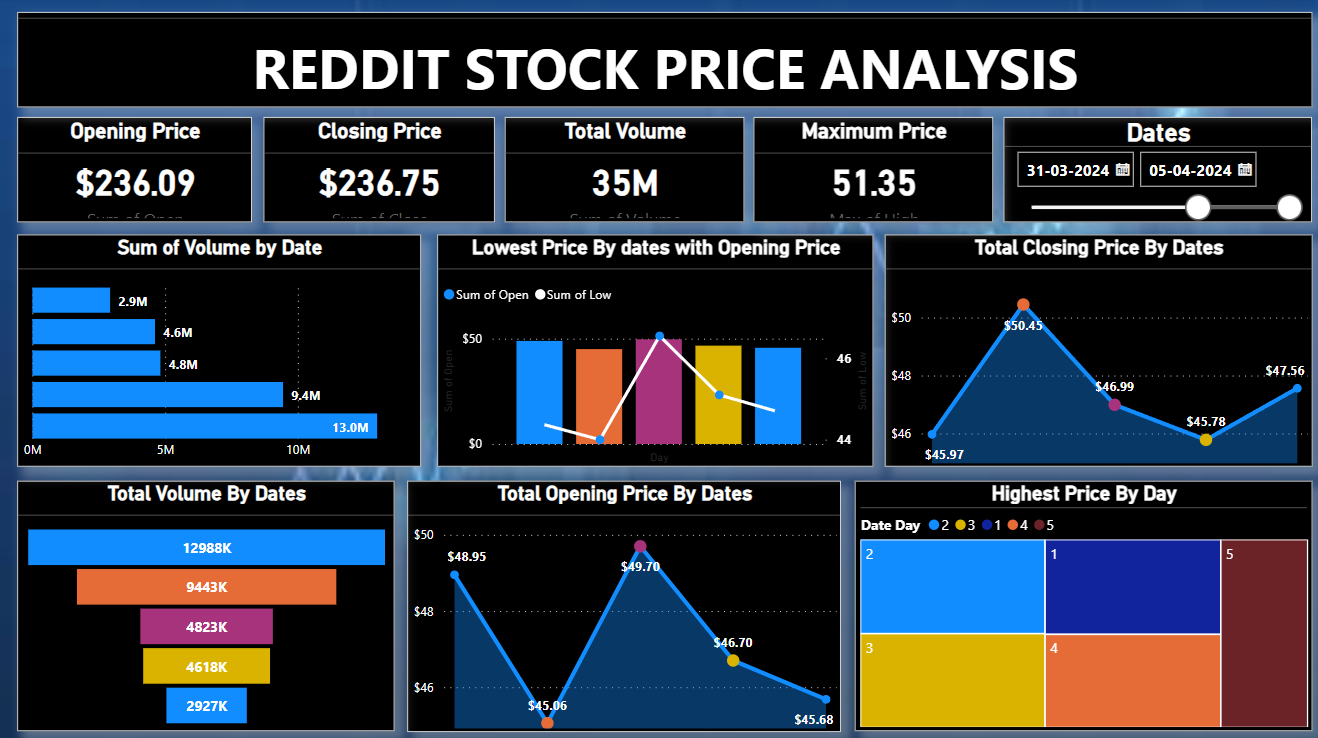

What the dashboard file says about the page in this screenshot:
{"tool":"powerbi","page":{"name":"Page 2","canvas":[1280,720],"ordinal":1},"visuals":[{"type":"card","title":"Total Opening Price","fields":{"Values":["Sum(RDDT.Open)"]},"box":[20.5,115.8,226.7,101.3],"z":0},{"type":"card","title":"Total Opening Price","fields":{"Values":["Sum(RDDT.Open)"]},"box":[258.1,115.8,223.1,101.3],"z":1000},{"type":"card","title":"Total Opening Price","fields":{"Values":["Sum(RDDT.Open)"]},"box":[490.9,115.8,231.6,101.3],"z":2000},{"type":"slicer","title":"Dates","fields":{"Values":["RDDT.Date"]},"box":[972.1,115.8,297.9,101.3],"z":3000},{"type":"lineChart","title":"Total Opening Price By Dates","fields":{"Y":["Sum(RDDT.Open)"],"Category":["RDDT.Date.Variation.Date Hierarchy.Year","RDDT.Date.Variation.Date Hierarchy.Quarter","RDDT.Date.Variation.Date Hierarchy.Month","RDDT.Date.Variation.Date Hierarchy.Day"]},"box":[396.8,466.7,418.5,242.4],"z":4000},{"type":"areaChart","title":"Total Closing Price By Dates","fields":{"Category":["RDDT.Date.Variation.Date Hierarchy.Year","RDDT.Date.Variation.Date Hierarchy.Quarter","RDDT.Date.Variation.Date Hierarchy.Month","RDDT.Date.Variation.Date Hierarchy.Day"],"Y":["Sum(RDDT.Close)"]},"box":[857.5,229.1,412.5,224.3],"z":5000},{"type":"funnel","title":"Total Volume By Dates","fields":{"Category":["RDDT.Date.Variation.Date Hierarchy.Year","RDDT.Date.Variation.Date Hierarchy.Quarter","RDDT.Date.Variation.Date Hierarchy.Month","RDDT.Date.Variation.Date Hierarchy.Day"],"Y":["Sum(RDDT.Volume)"]},"box":[20.5,466.7,364.2,241.2],"z":6000},{"type":"barChart","fields":{"Category":["RDDT.Date"],"Y":["Sum(RDDT.Volume)"]},"box":[20.5,229.1,389.5,224.3],"z":7000},{"type":"lineStackedColumnComboChart","title":"Lowest Price By dates with Opening Price","fields":{"Category":["RDDT.Date.Variation.Date Hierarchy.Year","RDDT.Date.Variation.Date Hierarchy.Quarter","RDDT.Date.Variation.Date Hierarchy.Month","RDDT.Date.Variation.Date Hierarchy.Day"],"Y":["Sum(RDDT.Open)"],"Y2":["Sum(RDDT.Low)"]},"box":[425.7,229.1,420.9,224.3],"z":7001},{"type":"treemap","title":"Highest Price By Day","fields":{"Group":["RDDT.Date.Variation.Date Hierarchy.Day"],"Values":["Sum(RDDT.High)"]},"box":[828.5,466.7,441.4,241.2],"z":7002},{"type":"card","title":"Total Opening Price","fields":{"Values":["Sum(RDDT.Open)"]},"box":[730.9,115.8,231.6,101.3],"z":7003},{"type":"textbox","box":[20.5,21.7,1249.4,76],"z":7004}]}

Visuals, with their boxes in screenshot pixels (x1, y1, x2, y2), scaled from the page's 1280x720 canvas onto the 1318x738 screenshot:
"Total Opening Price" card: box(21, 119, 255, 223)
"Total Opening Price" card: box(266, 119, 495, 223)
"Total Opening Price" card: box(505, 119, 744, 223)
"Dates" slicer: box(1001, 119, 1308, 223)
"Total Opening Price By Dates" lineChart: box(409, 478, 840, 727)
"Total Closing Price By Dates" areaChart: box(883, 235, 1308, 465)
"Total Volume By Dates" funnel: box(21, 478, 396, 726)
barChart - RDDT.Date x Sum(RDDT.Volume): box(21, 235, 422, 465)
"Lowest Price By dates with Opening Price" lineStackedColumnComboChart: box(438, 235, 872, 465)
"Highest Price By Day" treemap: box(853, 478, 1308, 726)
"Total Opening Price" card: box(753, 119, 991, 223)
textbox: box(21, 22, 1308, 100)
